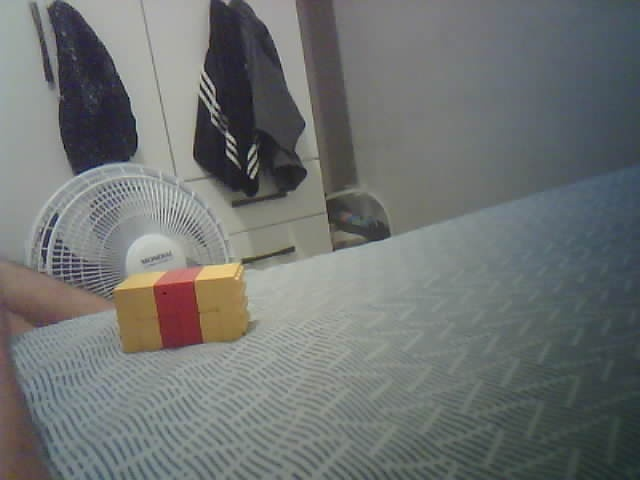lego: (111, 261, 251, 354)
